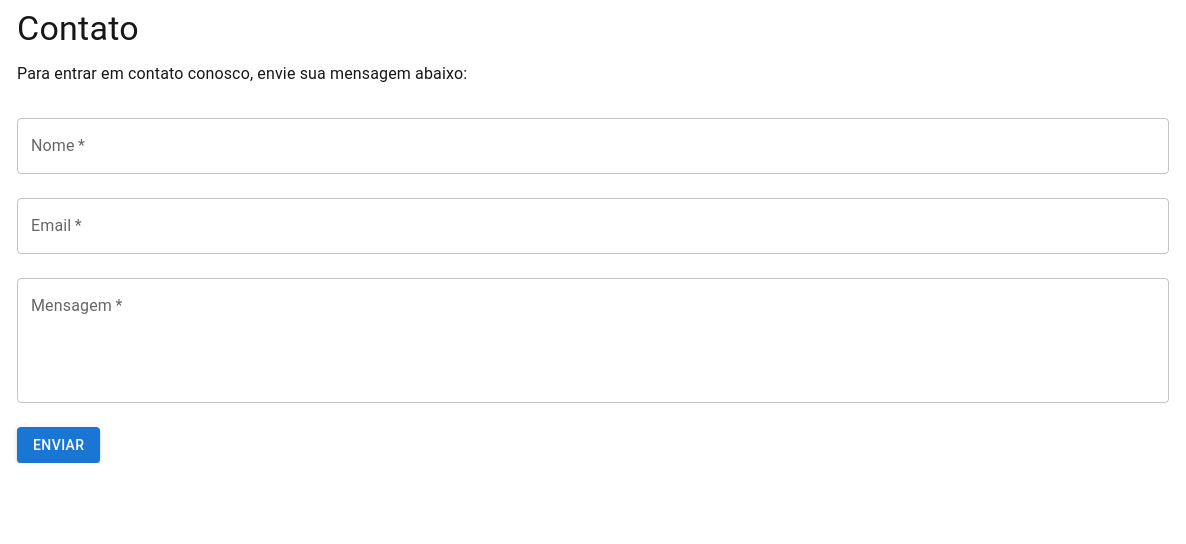
Test: ContatoPage › exibe erro ao falhar envio
Type "João" into the field labelled "Nome *" at (593, 146), box [17,118,1169,174]
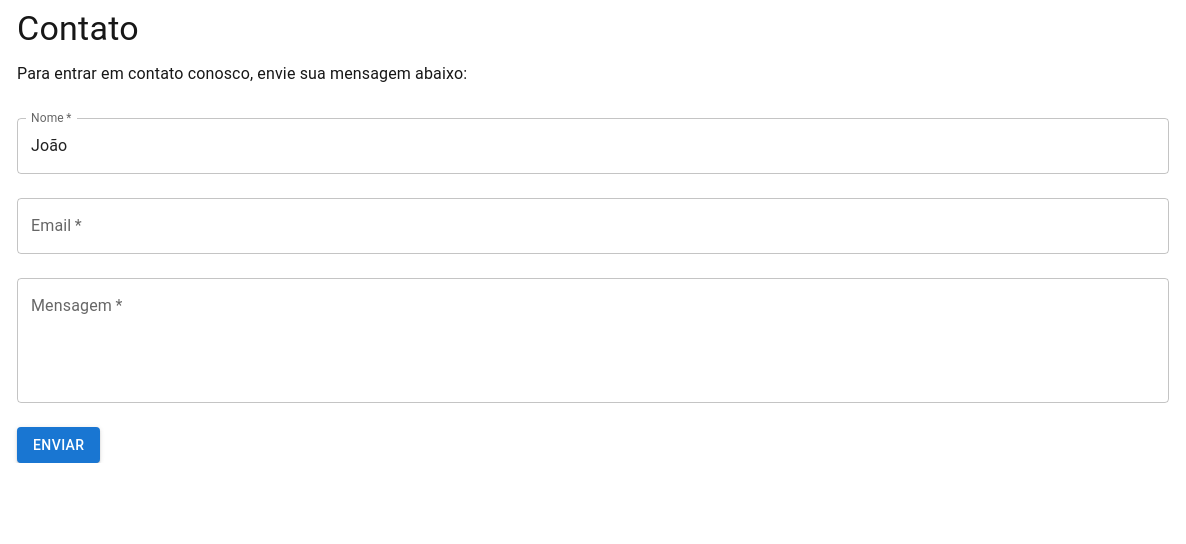
Type "joao@email.com" into the field labelled "Email *" at (593, 226), box [17,198,1169,254]
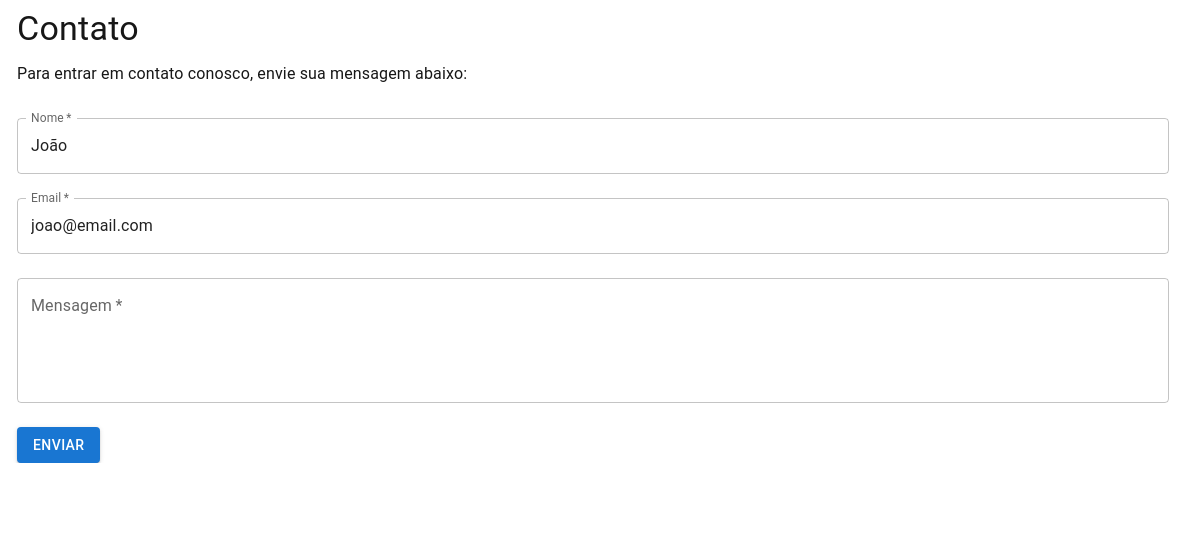
Type "Olá, tudo bem?" into the text box labelled "Mensagem *" at (593, 340), box [31,294,1155,386]
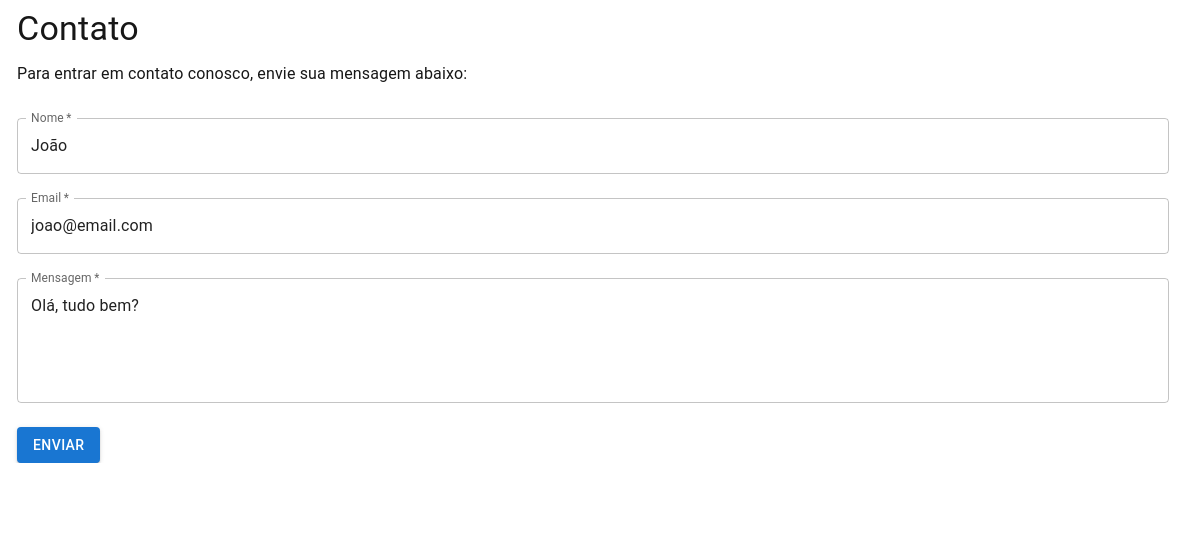
Click the button "Enviar" at (59, 445), box [17,427,100,463]
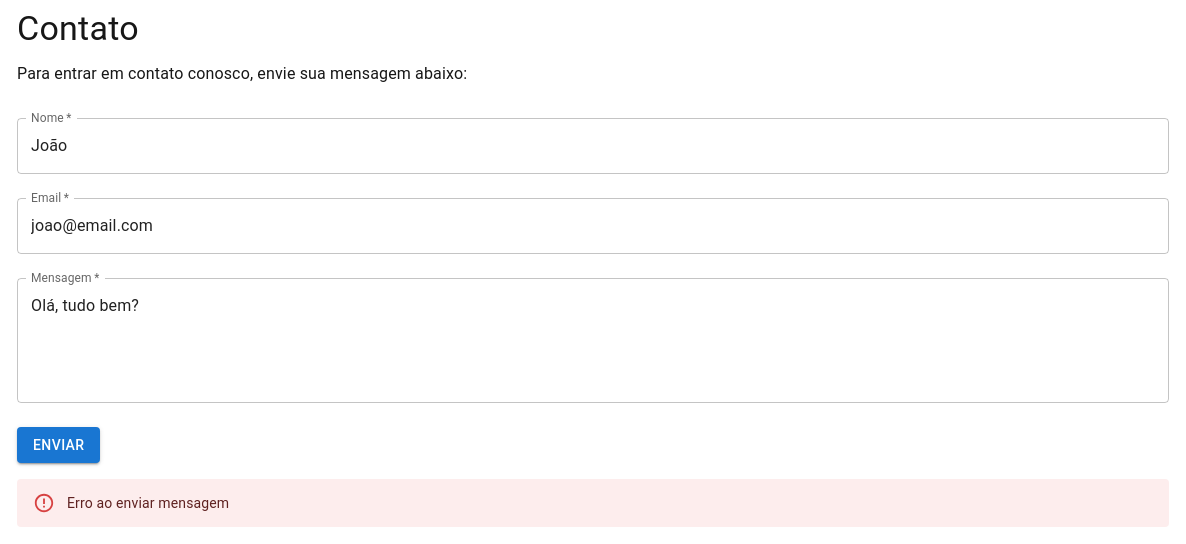
Result: the text "Erro ao enviar mensagem" is shown at [67,495,229,511]
